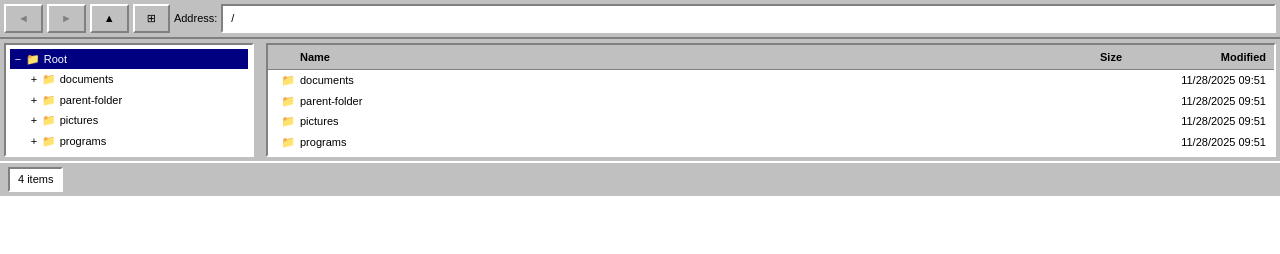
Test: Explorer - Folder Tree Expand/Collapse › should collapse folder when clicking collapse icon
Click the 2nd text "+" at (34, 100), box top-left (31, 94), bottom-right (37, 106)
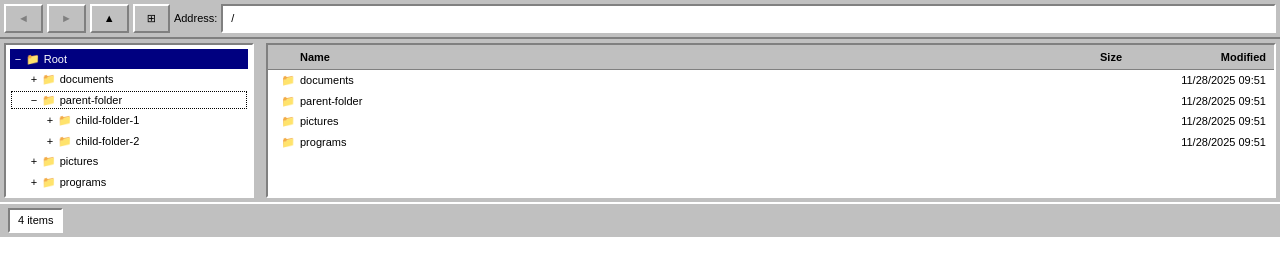
Expected: the text "child-folder-1" is shown, top-left (76, 112), bottom-right (139, 128)
Click the 2nd text "−" at (34, 100), box top-left (31, 94), bottom-right (37, 106)
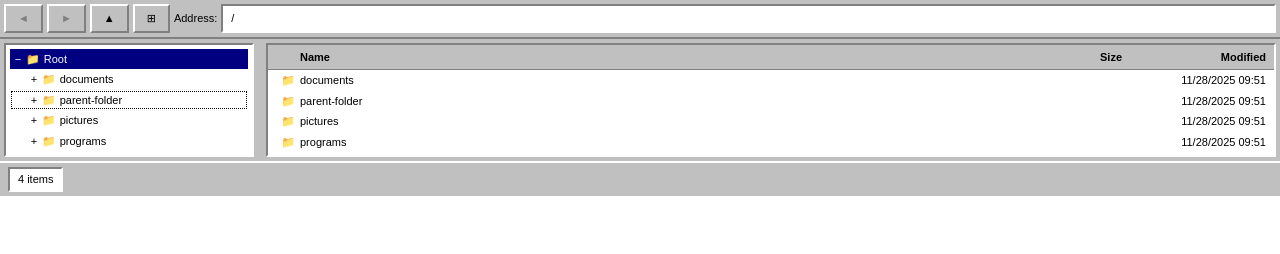
Expected: the text "child-folder-1" is gone
